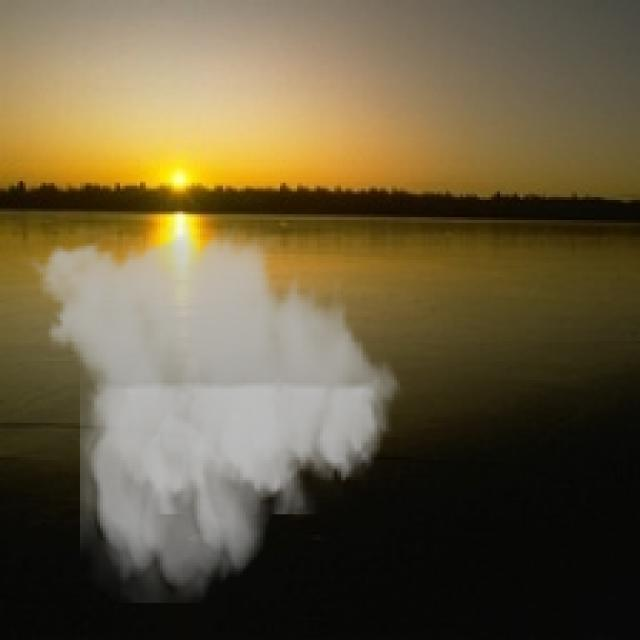Smoke: (19, 217, 412, 603)
